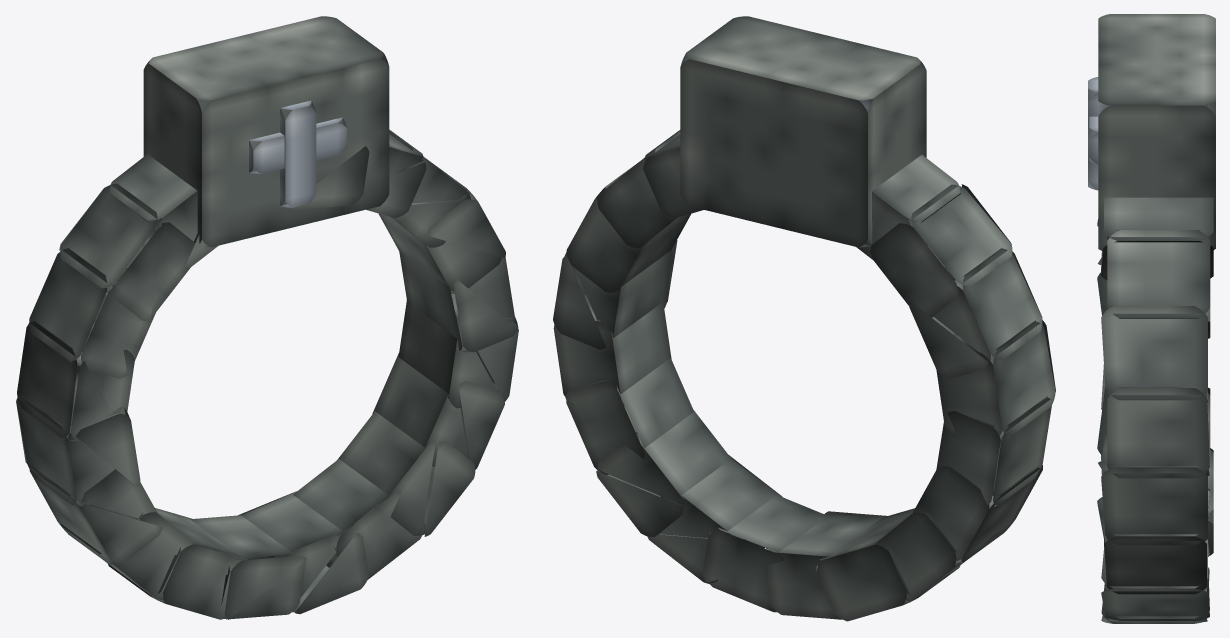
File: tarnished_signet.obj
3 renders of one model, left to right at view 1: azimuth 30°, elevation 25°; view 2: azimuth 150°, elevation 25°; view 3: azimuth 270°, elevation 25°, orthographic.
Visible parts, largest first — view 1: lit; view 2: lit; view 3: lit.
Boxes of the visible parts, x1,y1,x2,y2 form: lit: [16, 16, 518, 619]; lit: [553, 16, 1055, 621]; lit: [1088, 14, 1215, 623].
Size of the model in its own units: 0.7232 by 0.8241 by 0.1766.
